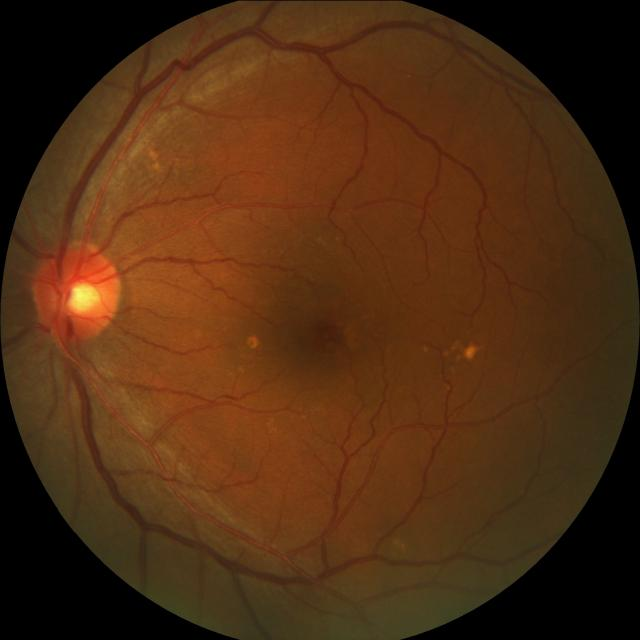OC: (59, 277, 101, 318)
OD: (34, 242, 122, 340)
